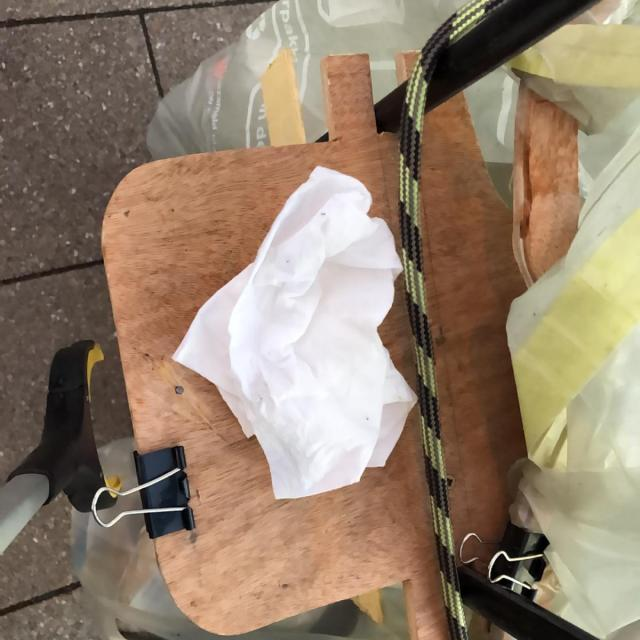Paper: (168, 164, 424, 502)
